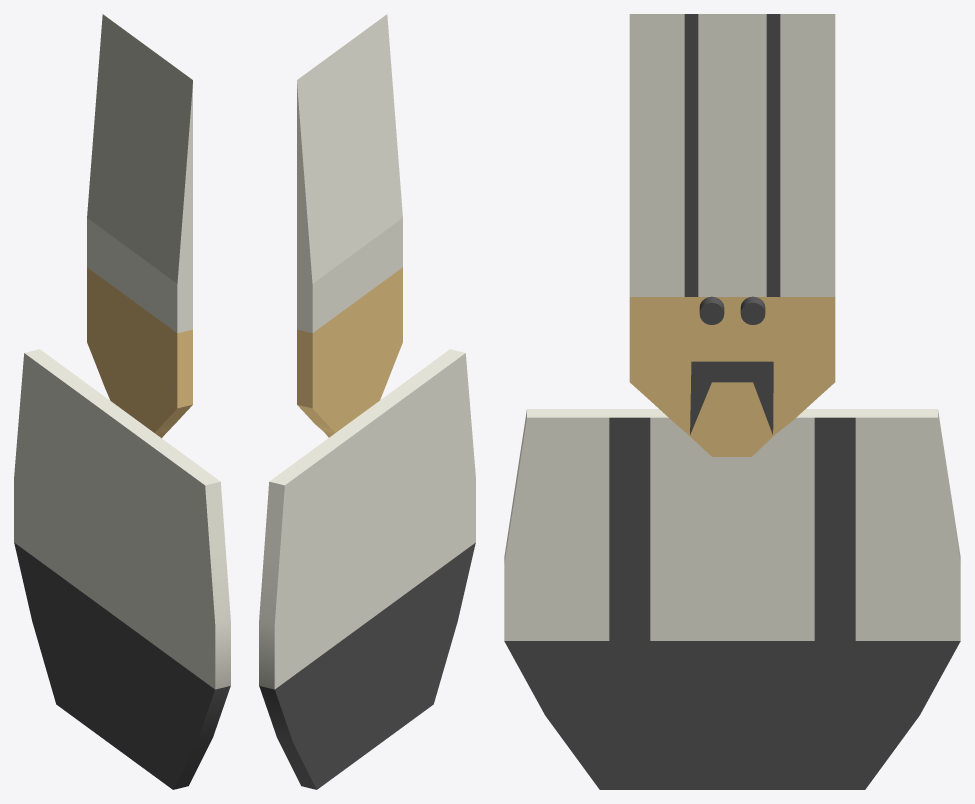
Rendered from Neutral.fbx.
3 renders of one model, left to right at view 1: azimuth 30°, elevation 25°; view 2: azimuth 150°, elevation 25°; view 3: azimuth 270°, elevation 25°, orthographic. The views are drawn at different scales.
Visible parts, largest first — view 1: pCylinder9; view 2: pCylinder9; view 3: pCylinder9.
Boxes of the visible parts, box(x1,y1,x2,y2) form: pCylinder9: box(14, 14, 230, 789); pCylinder9: box(259, 14, 475, 789); pCylinder9: box(504, 14, 960, 789).
Size of the model in its own units: 0.2827 by 4.22 by 2.22.
